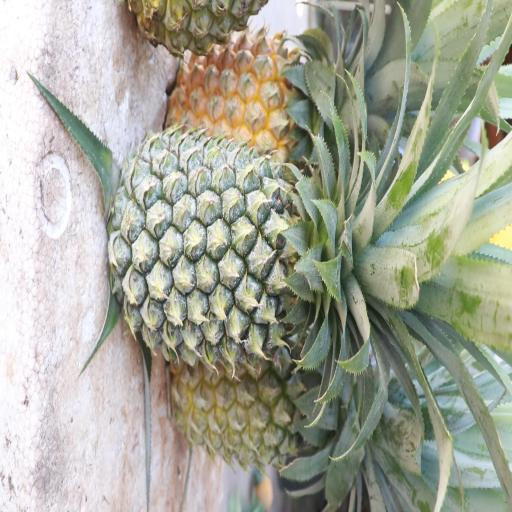------------------------------: (170, 331, 354, 474)
Pineapple - v8 v1: (182, 20, 357, 152)
